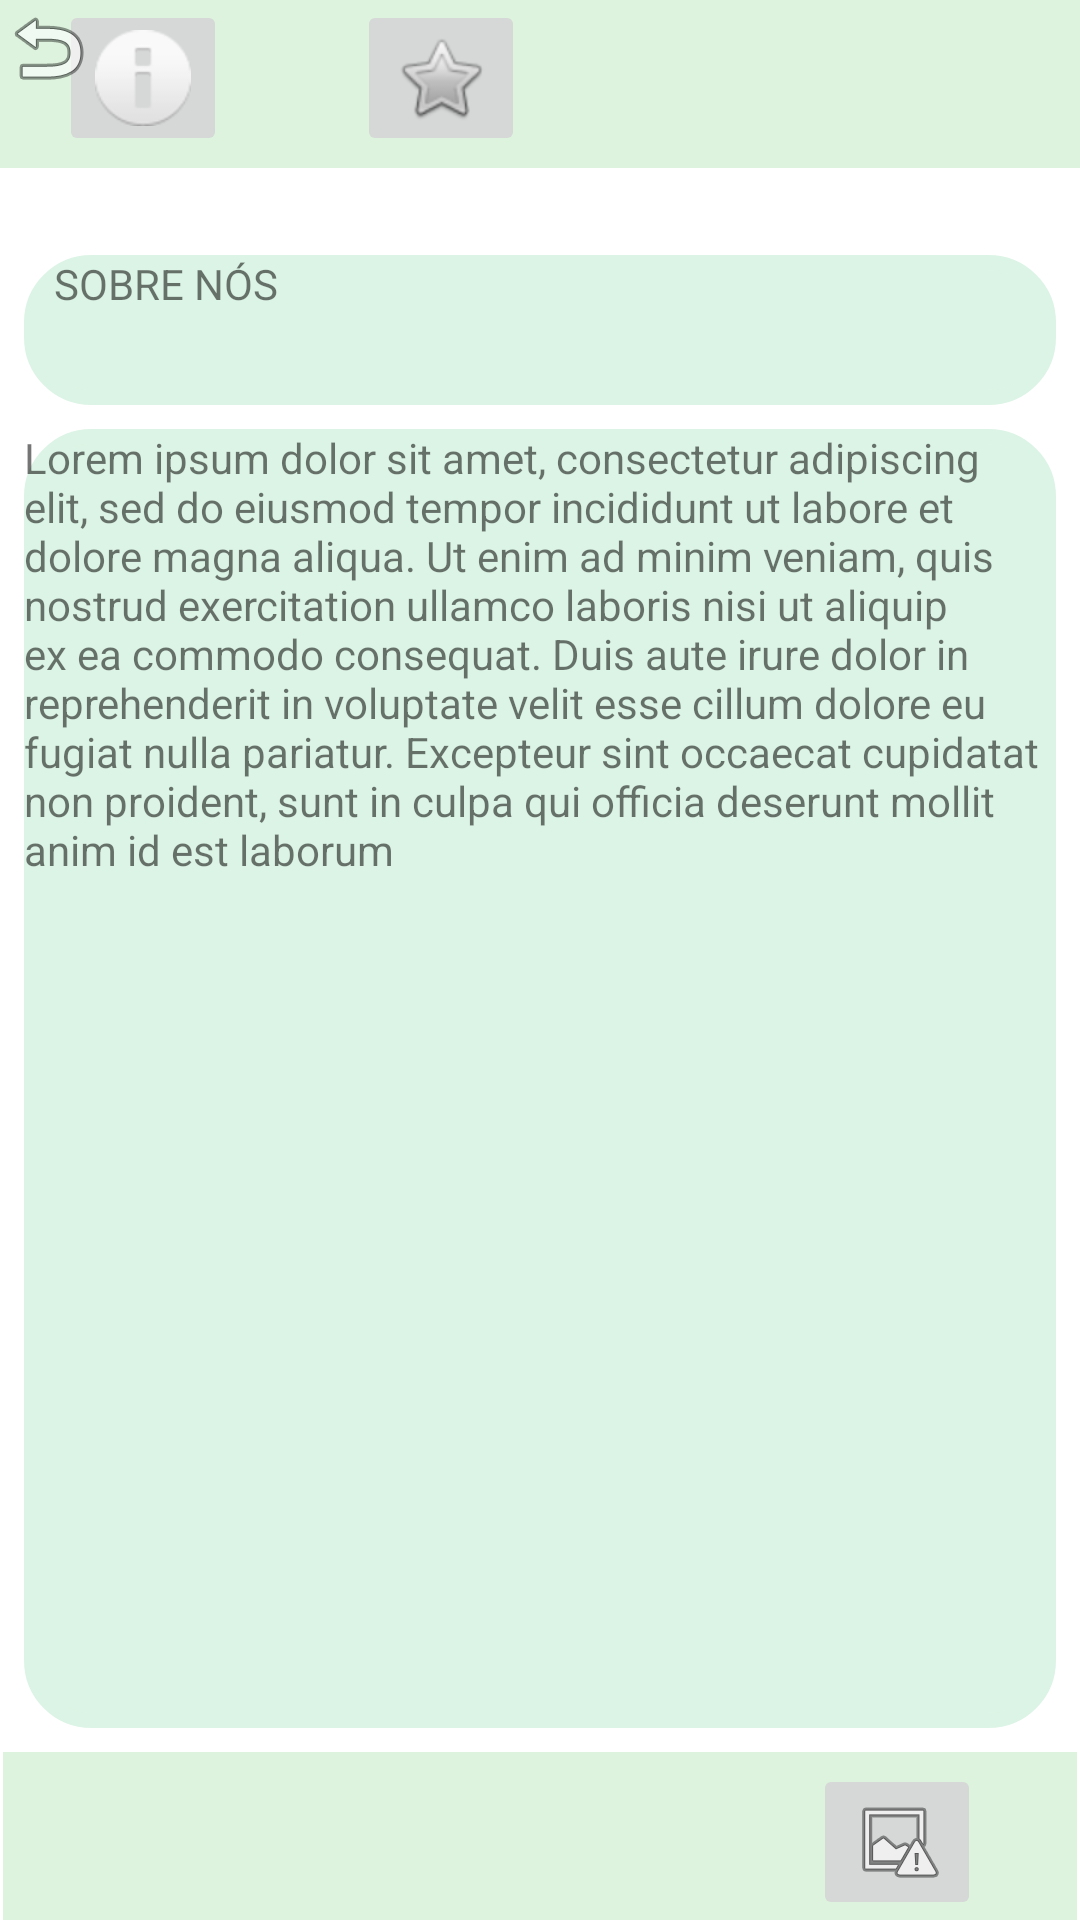

Icons on this 1080*1920 Android screen, each with its box as BBox(x1, y1, x2, y2):
star: BBox(369, 18, 513, 138)
